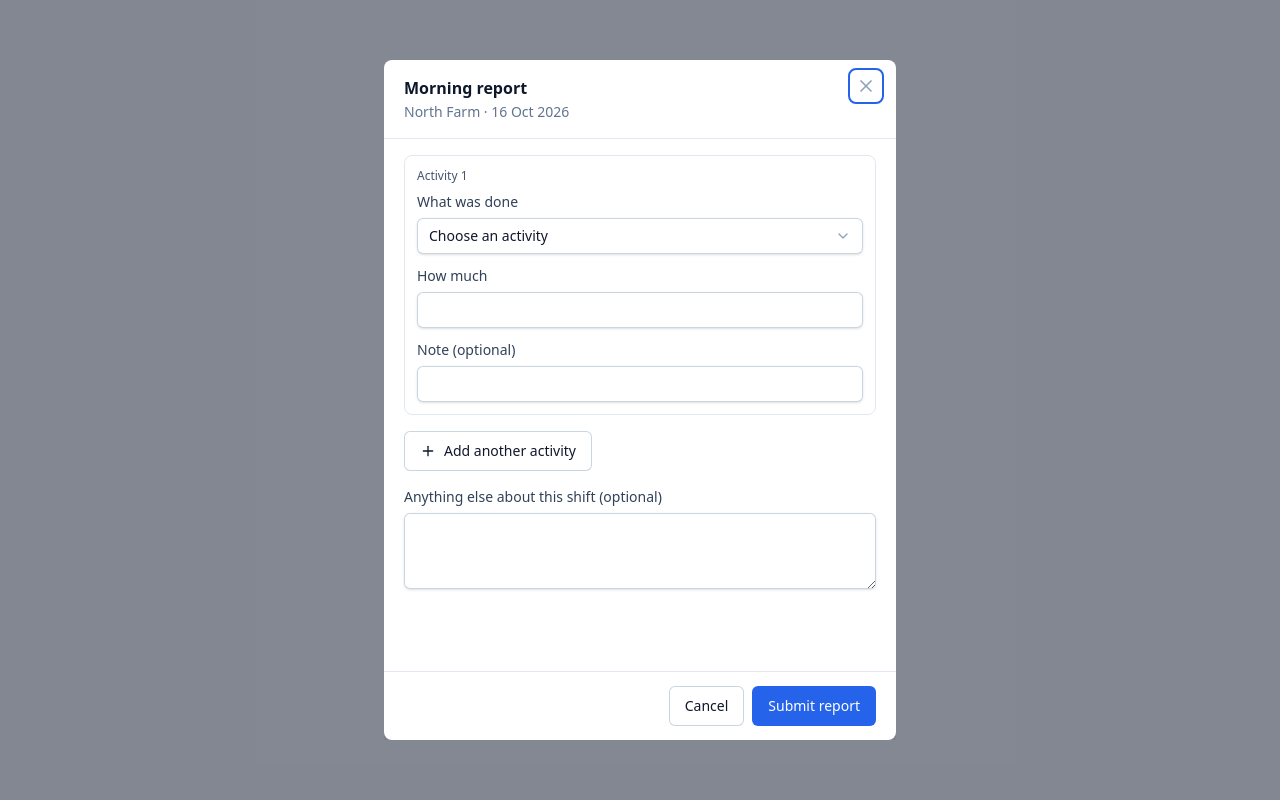
Test case: field report submission › refuses an empty report rather than sending nothing to the server
This screenshot has width=1280, height=800.
Step 1. Click the button "Submit report" → (814, 706), box [752, 686, 876, 726]
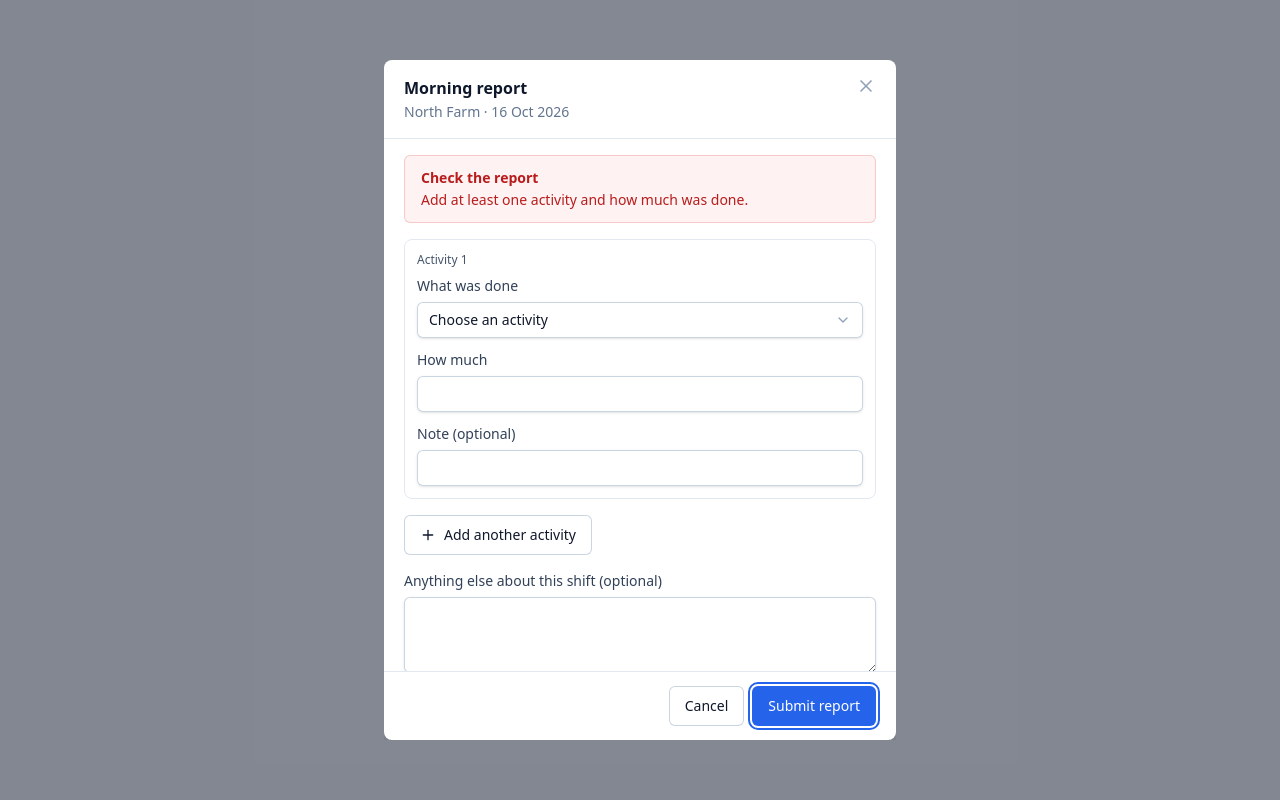
Expected: the text "Add at least one activity and how much was done." is shown, [421, 190, 748, 209]
